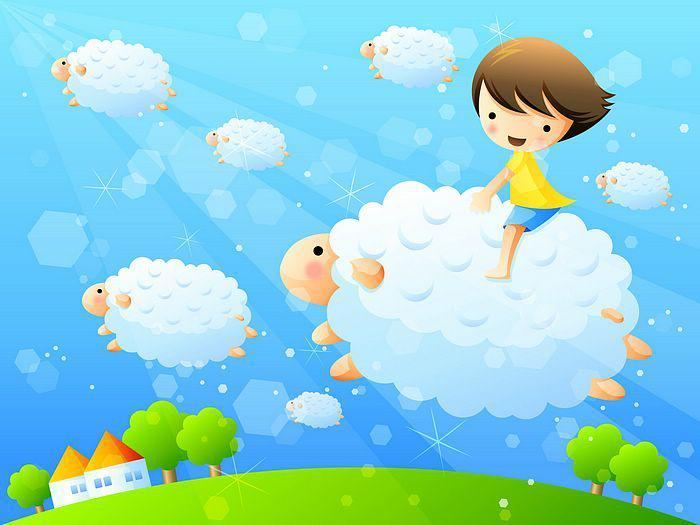person: (465, 34, 612, 282)
sheep: (277, 176, 654, 421), (79, 253, 260, 368), (47, 36, 178, 120), (355, 23, 460, 91), (203, 115, 290, 173), (592, 160, 675, 211)
